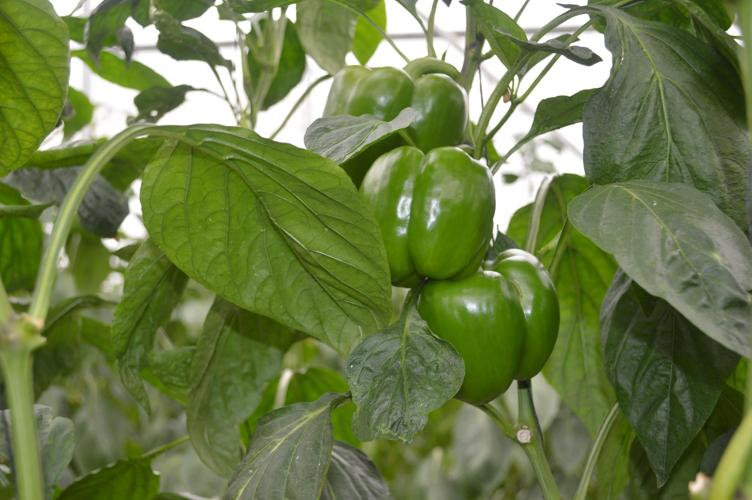BellPepper: (410, 248, 562, 405), (357, 146, 497, 285), (320, 67, 469, 177)
